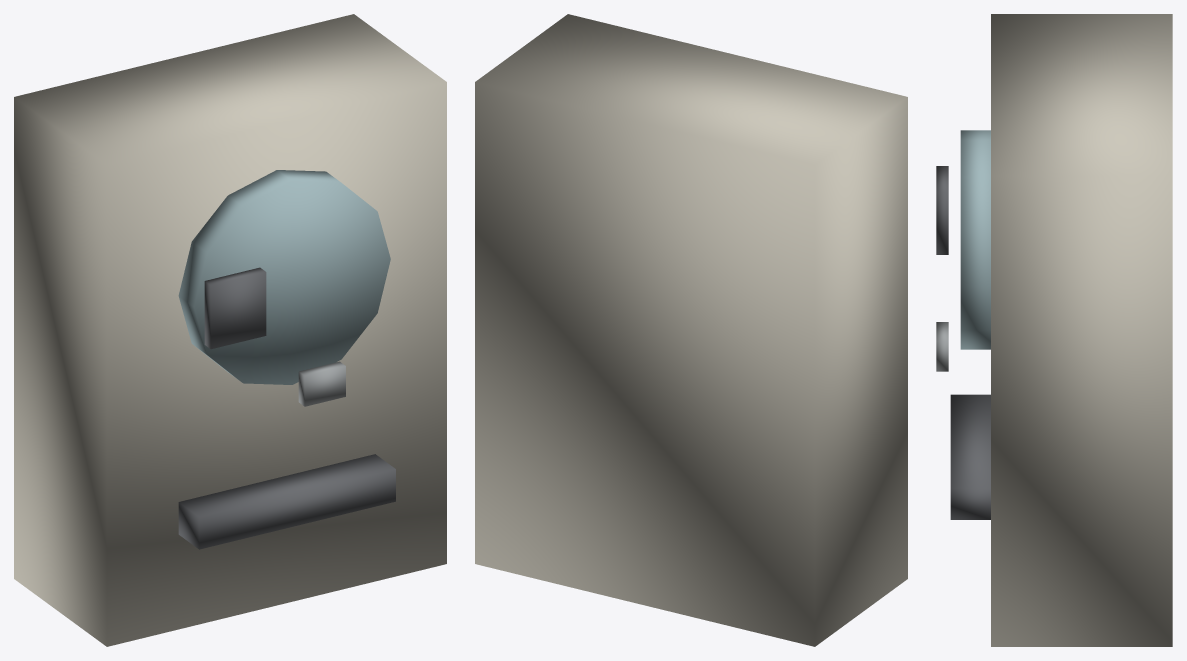
The model's file is employee_punch_clock__weathered.glb.
3 renders of one model, left to right at view 1: azimuth 30°, elevation 25°; view 2: azimuth 150°, elevation 25°; view 3: azimuth 270°, elevation 25°, orthographic. The views are drawn at different scales.
Parts seen in each view (by area): view 1: world; view 2: world; view 3: world.
Part boxes in pixels (left/top/right/bottom): world: left=14, top=14, right=446, bottom=646; world: left=475, top=14, right=907, bottom=646; world: left=936, top=14, right=1172, bottom=646.
Size of the model in its own units: 0.38 by 0.5148 by 0.234.
